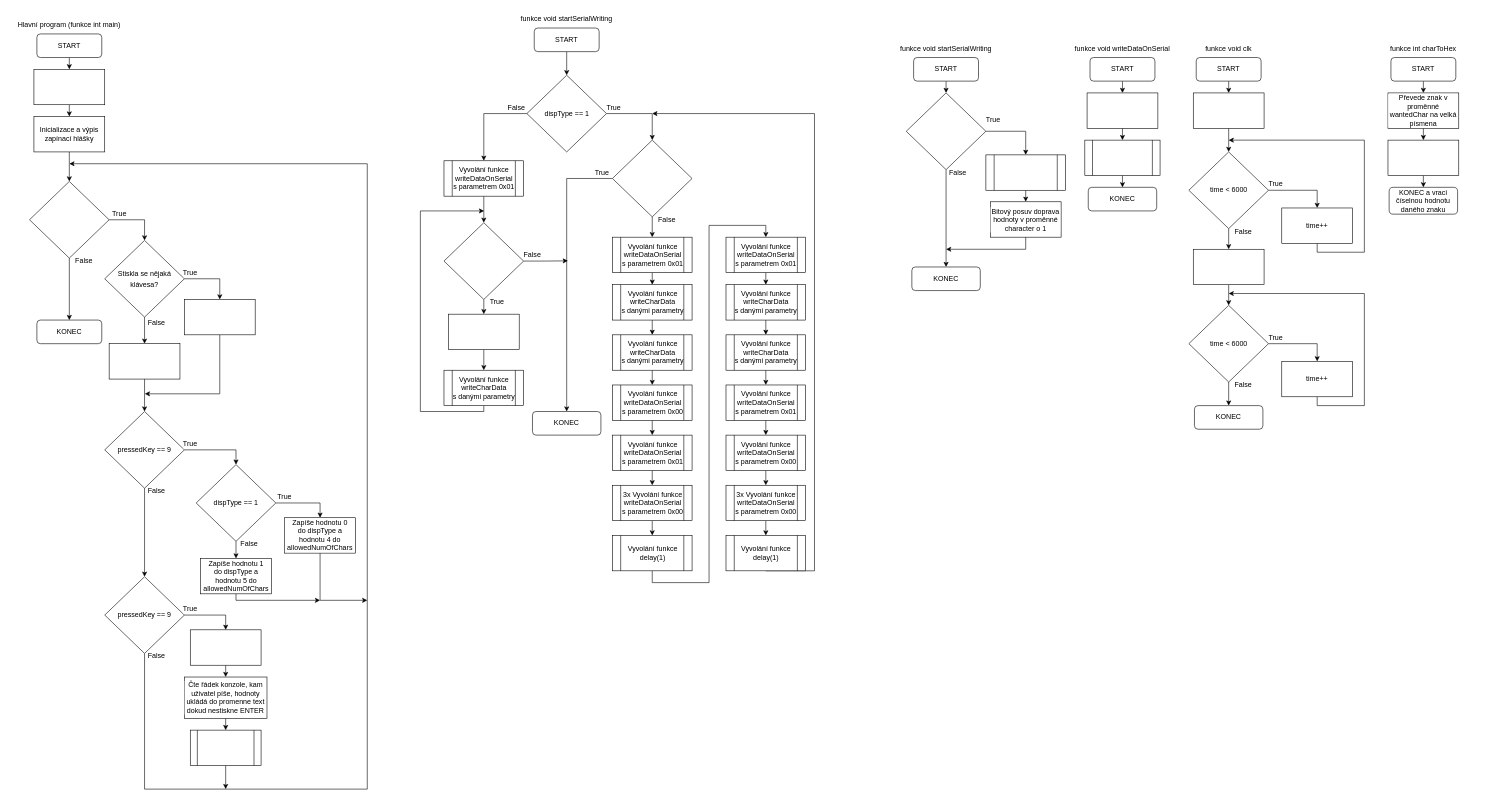
This 1492x804 diagram has some shape labels left out. The shapes that lost their labels are listed below. From the top down, each one's centre as x and y in pixels, then its label:
At [69,87]: "Vypnutí všech výstupních portů (odešle 0x00)".
At [1122,110]: "Odeslání proměnné data na port P1OUT".
At [1228,110]: "Odeslání 0x01 na port P2OUT; time = 0;".
At [946,131]: "i < (dispType ? 15 : 7)".
At [652,178]: "Stiskla se klavesnice?".
At [1025,172]: "Vyvolání funkce writeDataOnSerial s parametrem character".
At [1122,158]: "Vyvolání funkce clk".
At [1423,158]: "Vybere dle typu displeje a wantedChar číselnou hodnotu".
At [69,219]: "pressedKey != 27".
At [483,260]: "i < allowedNumOfChars".
At [1228,267]: "Odeslání 0x00 na port P2OUT; time = 0;".
At [219,317]: "Zapíše hodnotu klávesy do pressedKey".
At [483,332]: "i++;".
At [144,361]: "Zapíše hodnotu 92 (SPACE) do pressedKey".
At [225,647]: "Vypíše hlášku pro zadávání textu".
At [225,748]: "Vyvolání funkce startSerialWriting".
